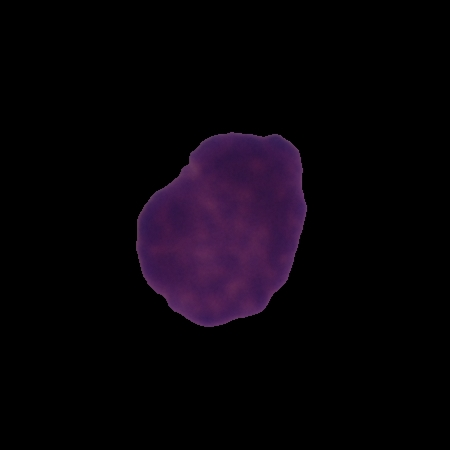HEM: (133, 129, 310, 329)
